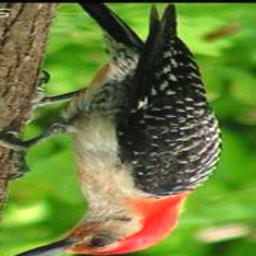Woodpecker: (0, 3, 226, 256)
